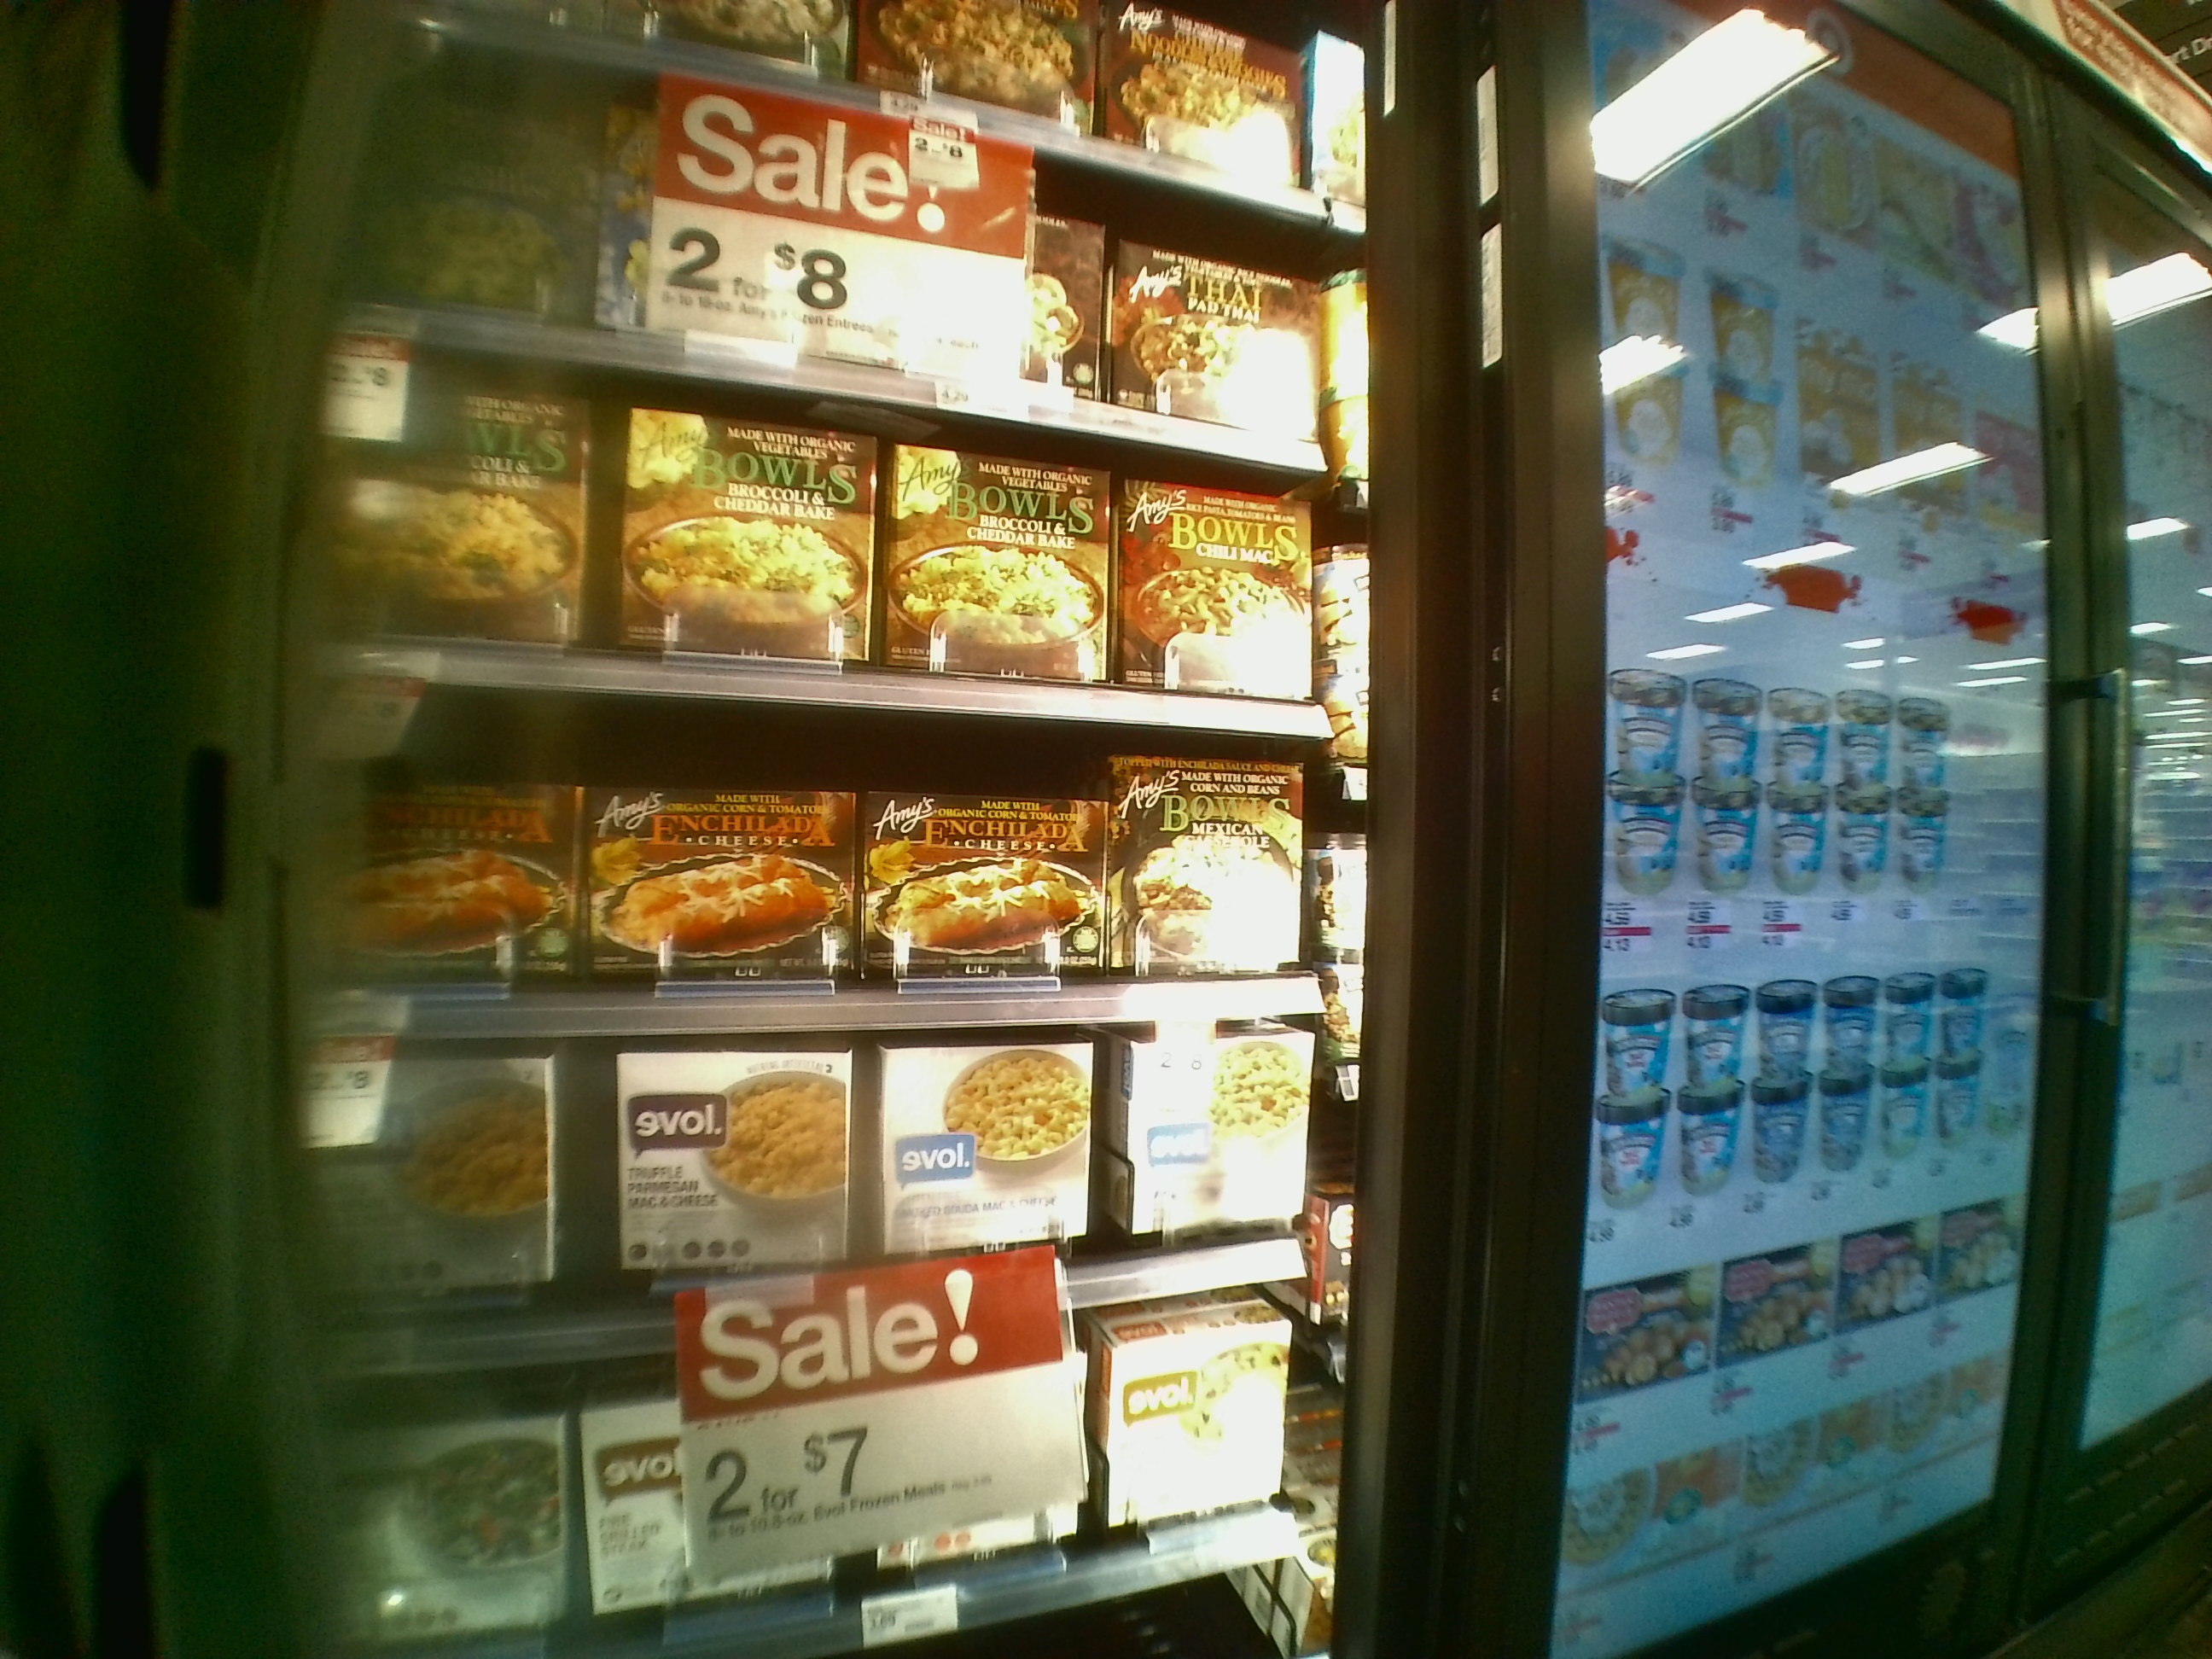shelf: (307, 699, 1362, 1012), (301, 415, 1348, 720), (310, 1025, 1346, 1330), (338, 1330, 1338, 1643)
